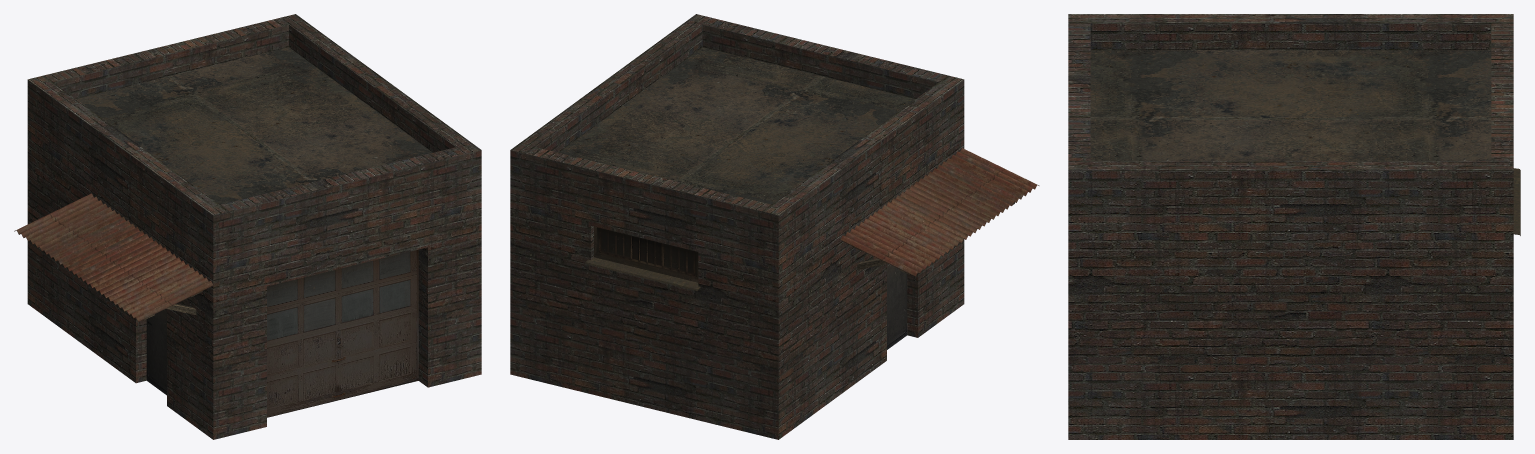
Rendered from garage_hm_1.obj.
The picture shows the model from 3 angles, left to right: view 1: azimuth 30°, elevation 25°; view 2: azimuth 150°, elevation 25°; view 3: azimuth 270°, elevation 25°; orthographic projection. The views are drawn at different scales.
Parts seen in each view (by area): view 1: garage_hm_1; view 2: garage_hm_1; view 3: garage_hm_1.
Boxes of the visible parts, x1,y1,x2,y2 form: garage_hm_1: (14, 14, 481, 439); garage_hm_1: (510, 14, 1039, 439); garage_hm_1: (1068, 14, 1520, 439).
Size of the model in its own units: 6.4 by 4 by 6.1.
